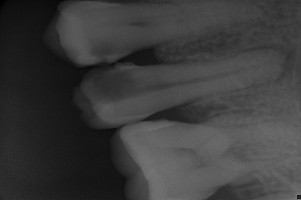Furcation Involvement: (244, 44, 295, 82)
